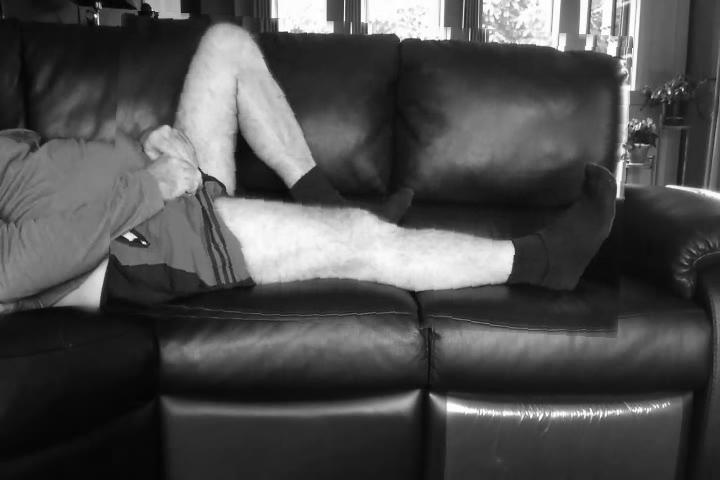lowerbody: (111, 18, 630, 332)
